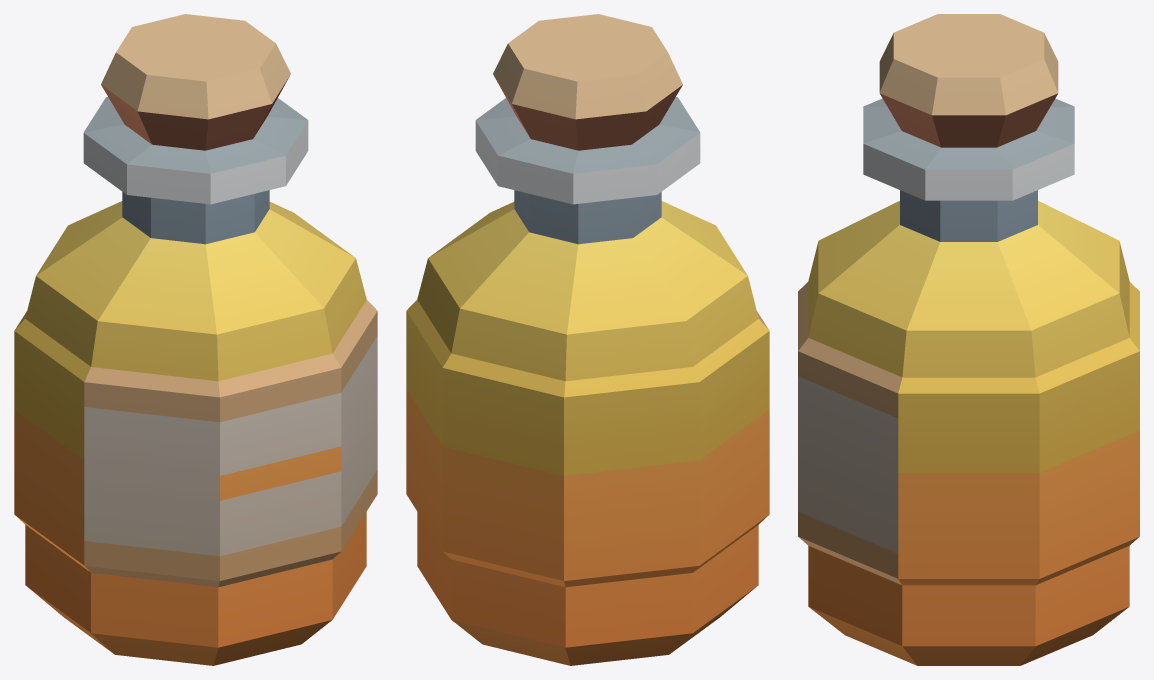
Rendered from potion_medium_gold.glb.
3 renders of one model, left to right at view 1: azimuth 30°, elevation 25°; view 2: azimuth 150°, elevation 25°; view 3: azimuth 270°, elevation 25°, orthographic.
Visible parts, largest first — view 1: model; view 2: model; view 3: model.
Boxes of the visible parts, x1,y1,x2,y2 form: model: [14, 14, 377, 665]; model: [406, 14, 769, 665]; model: [798, 14, 1139, 665].
Bounding box in the file's own units: 0.48 × 0.88 × 0.48.
Materials: 1 (1 with a texture image).
